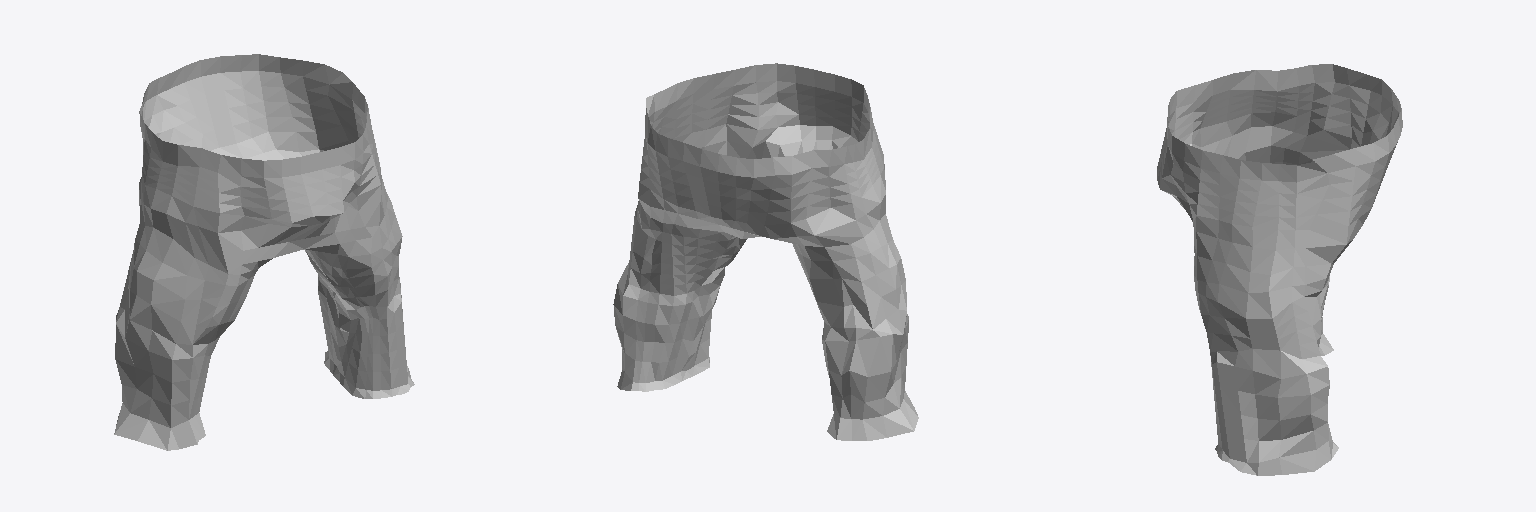
File: Yoda_Trousers_1.obj
3 renders of one model, left to right at view 1: azimuth 30°, elevation 25°; view 2: azimuth 150°, elevation 25°; view 3: azimuth 270°, elevation 25°, orthographic.
Parts seen in each view (by area): view 1: Yoda_Mesh_Export_to_Blender_polystrips; view 2: Yoda_Mesh_Export_to_Blender_polystrips; view 3: Yoda_Mesh_Export_to_Blender_polystrips.
Part boxes in pixels (x1,y1,x2,y2): Yoda_Mesh_Export_to_Blender_polystrips: (114, 54, 414, 450); Yoda_Mesh_Export_to_Blender_polystrips: (613, 63, 918, 440); Yoda_Mesh_Export_to_Blender_polystrips: (1157, 64, 1402, 475).
Size of the model in its own units: 1.99 by 1.98 by 1.47.